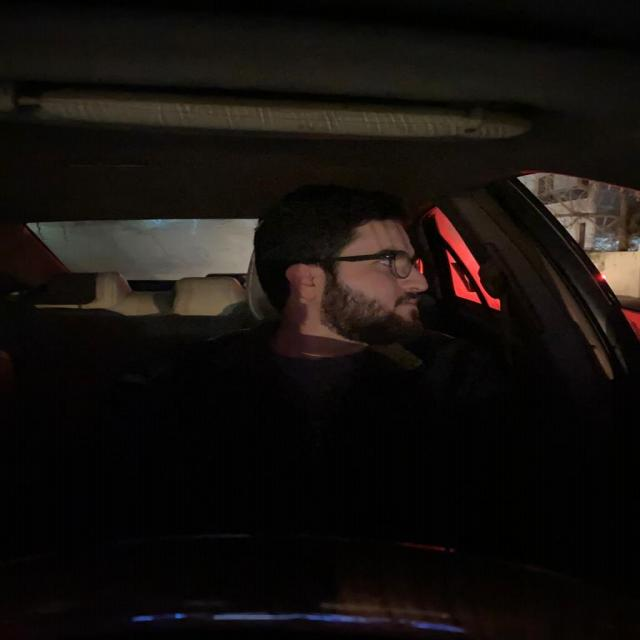LeftRight: (247, 179, 450, 383)
